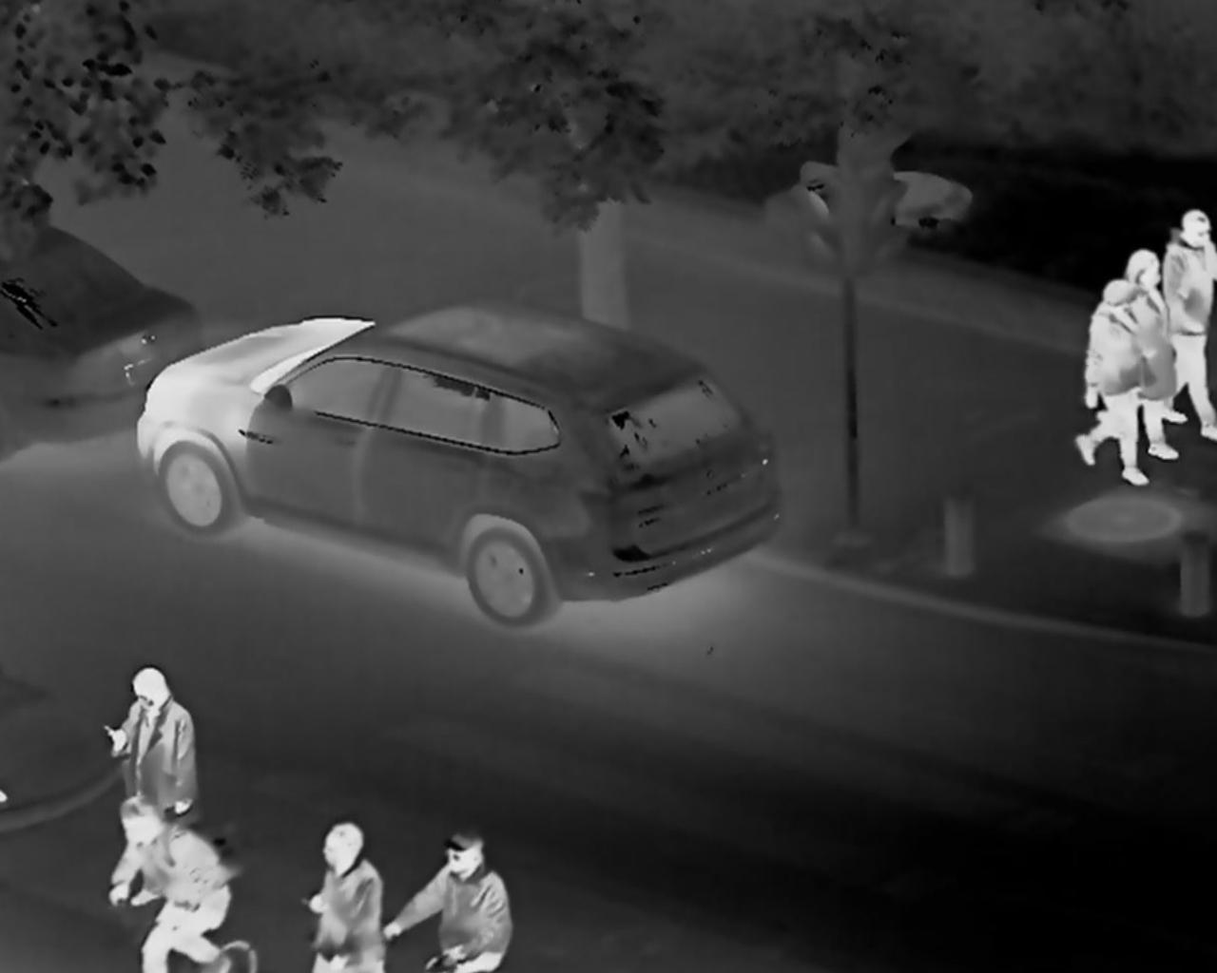person: (94, 787, 232, 973), (409, 813, 529, 965), (290, 810, 379, 973), (1147, 197, 1217, 401), (123, 640, 213, 793), (1087, 259, 1145, 464)
